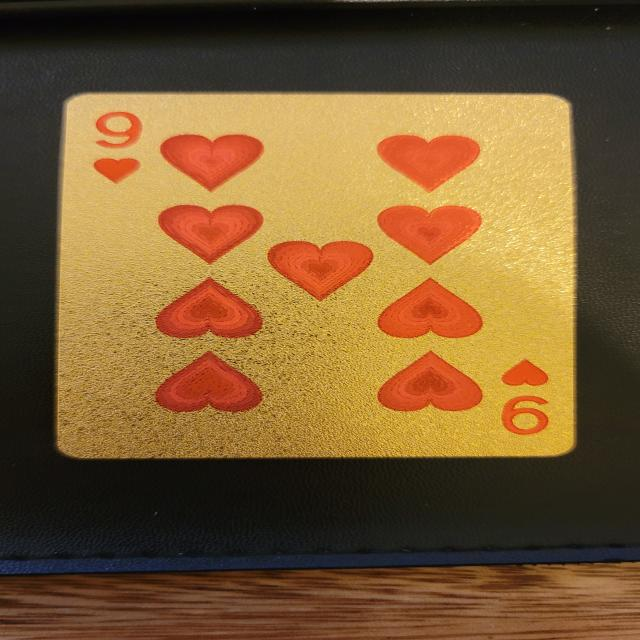9 of hearts: (61, 94, 579, 457)
